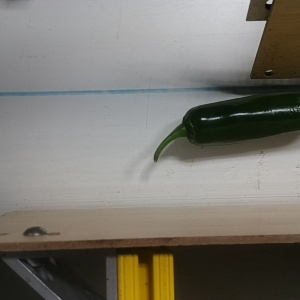Cut Point: (175, 105, 207, 146)
